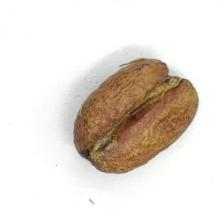NG: (76, 60, 187, 166)
